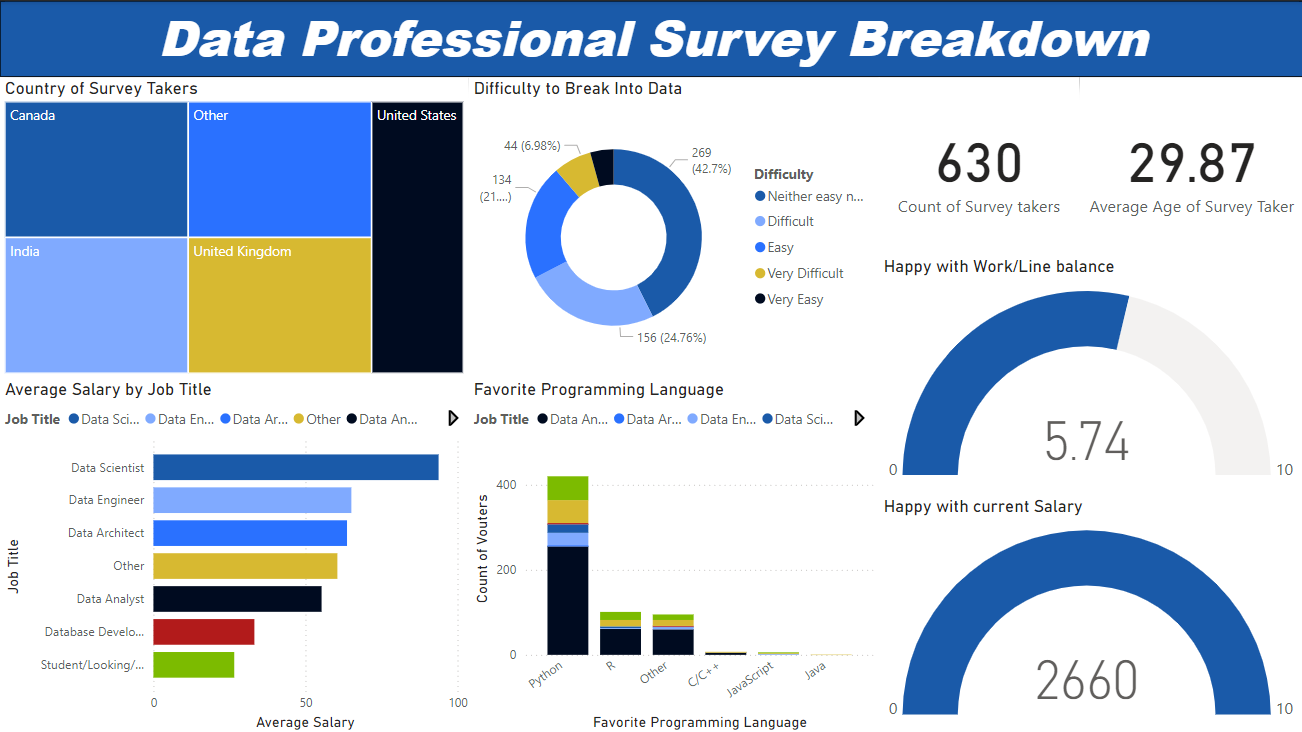

The page's visual inventory and layout, read from the dashboard file:
{"tool":"powerbi","page":{"name":"Page 1","canvas":[1280,720],"ordinal":0},"visuals":[{"type":"textbox","box":[0,0,1280.3,74.8],"z":0},{"type":"card","fields":{"Values":["CountNonNull(Data Professional Survey.Unique ID)"]},"box":[862.9,74.3,197.1,175.7],"z":1000},{"type":"card","fields":{"Values":["Avg(Data Professional Survey.Q10 - Current Age)"]},"box":[1060,74.3,220,175.7],"z":2000},{"type":"barChart","title":"Average Salary by Job Title","fields":{"Category":["Data Professional Survey.Q1 - Which Title Best Fits your Current Role?.1"],"Y":["Avg(Data Professional Survey.Average Salary)"],"Series":["Data Professional Survey.Q1 - Which Title Best Fits your Current Role?.1"]},"box":[0,370,464.3,350],"z":3000},{"type":"columnChart","title":"Favorite Programming Language","fields":{"Category":["Data Professional Survey.Q5 - Favorite Programming Language.1"],"Y":["CountNonNull(Data Professional Survey.Unique ID)"],"Series":["Data Professional Survey.Q1 - Which Title Best Fits your Current Role?.1"]},"box":[460,370,402.9,350],"z":4000},{"type":"treemap","title":"Country of Survey Takers","fields":{"Group":["Data Professional Survey.Q11 - Which Country do you live in?.1"],"Values":["Count(Data Professional Survey.Q11 - Which Country do you live in?.1)"]},"box":[0,74.3,460,295.7],"z":5000},{"type":"gauge","title":"Happy with Work/Line balance","fields":{"Y":["Avg(Data Professional Survey.Q6 - How Happy are you in your Current Position with the following? (Work/Life Balance))"],"MinValue":["Min(Data Professional Survey.Q6 - How Happy are you in your Current Position with the following? (Work/Life Balance))1"],"MaxValue":["Max(Data Professional Survey.Q6 - How Happy are you in your Current Position with the following? (Work/Life Balance))2"]},"box":[862.9,250,417.1,235.7],"z":6000},{"type":"gauge","title":"Happy with current Salary","fields":{"Y":["Sum(Data Professional Survey.Q6 - How Happy are you in your Current Position with the following? (Salary))"],"MinValue":["Min(Data Professional Survey.Q6 - How Happy are you in your Current Position with the following? (Salary))"],"MaxValue":["Max(Data Professional Survey.Q6 - How Happy are you in your Current Position with the following? (Salary))"]},"box":[862.9,485.7,417.1,234.3],"z":7000},{"type":"donutChart","title":"Difficulty to Break Into Data","fields":{"Category":["Data Professional Survey.Q7 - How difficult was it for you to break into Data?"],"Y":["CountNonNull(Data Professional Survey.Q7 - How difficult was it for you to break into Data?)"]},"box":[460,74.3,402.9,295.7],"z":8000}]}

Visuals, with their boxes in screenshot pixels (x1, y1, x2, y2), scaled from the page's 1280x720 canvas onto the 1302x732 screenshot:
textbox: x1=0 y1=0 x2=1301 y2=76
card - CountNonNull(Data Professional Survey.Unique ID): x1=878 y1=76 x2=1078 y2=254
card - Avg(Data Professional Survey.Q10 - Current Age): x1=1078 y1=76 x2=1301 y2=254
"Average Salary by Job Title" barChart: x1=0 y1=376 x2=472 y2=731
"Favorite Programming Language" columnChart: x1=468 y1=376 x2=878 y2=731
"Country of Survey Takers" treemap: x1=0 y1=76 x2=468 y2=376
"Happy with Work/Line balance" gauge: x1=878 y1=254 x2=1301 y2=494
"Happy with current Salary" gauge: x1=878 y1=494 x2=1301 y2=731
"Difficulty to Break Into Data" donutChart: x1=468 y1=76 x2=878 y2=376
